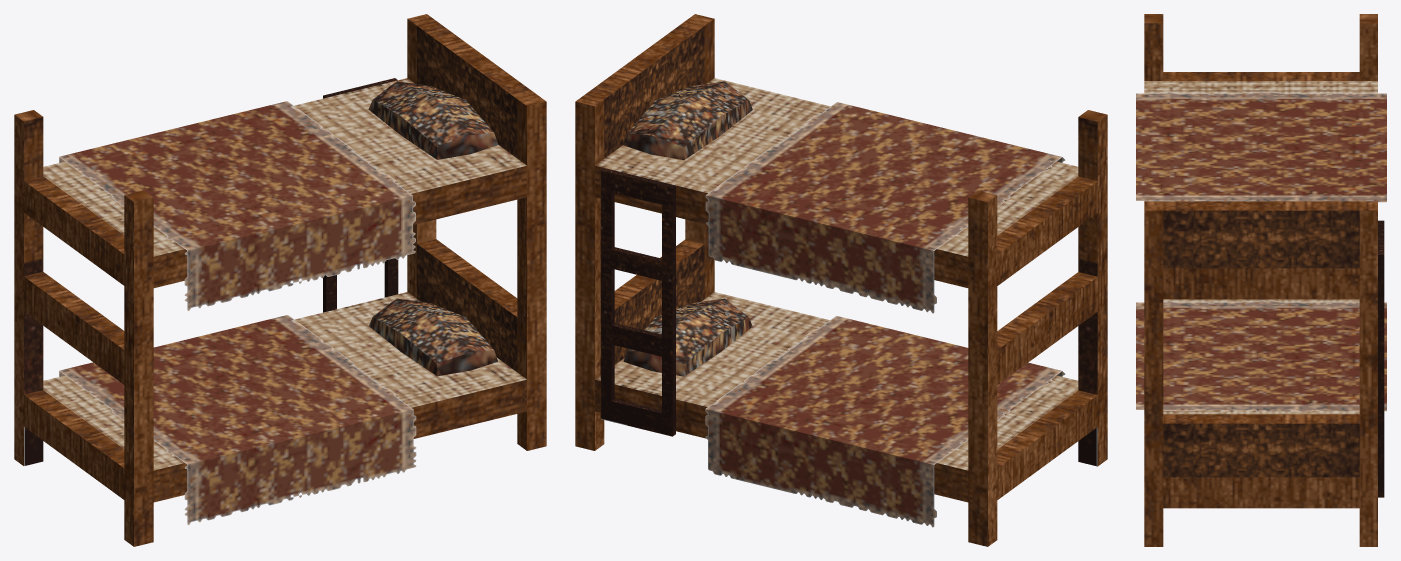
Rendered from SM_Dungeon_BunkBed.fbx.
3 views of the same model, side by side, from view 1: azimuth 30°, elevation 25°; view 2: azimuth 150°, elevation 25°; view 3: azimuth 270°, elevation 25° (orthographic). The views are drawn at different scales.
Parts seen in each view (by area): view 1: SM_Dungeon_Bed_Bunk; view 2: SM_Dungeon_Bed_Bunk; view 3: SM_Dungeon_Bed_Bunk.
Part boxes in pixels (<box>): SM_Dungeon_Bed_Bunk: <box>14,14,546,546</box>; SM_Dungeon_Bed_Bunk: <box>575,14,1107,546</box>; SM_Dungeon_Bed_Bunk: <box>1136,14,1386,546</box>.
Bounding box in the file's own units: 305 × 243 × 164.
